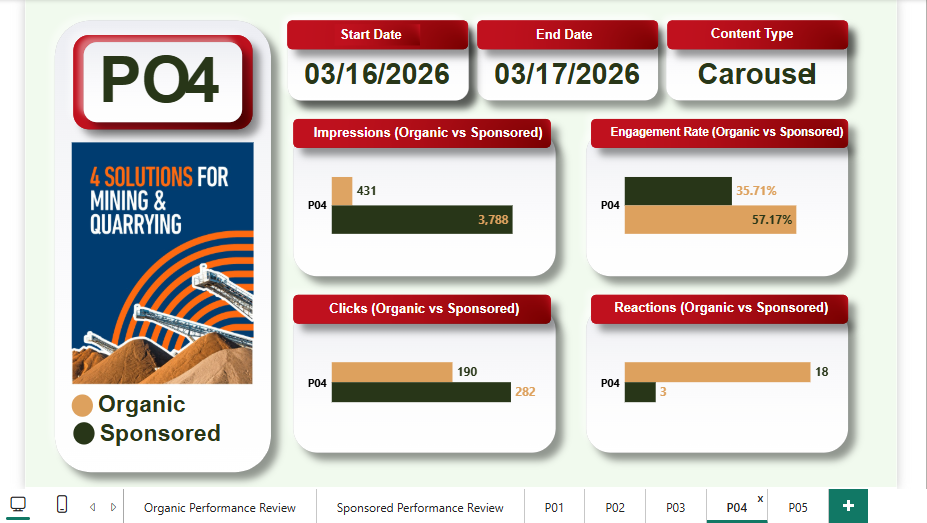

The dashboard page shown, as its layout file describes it:
{"tool":"powerbi","page":{"name":"P04","canvas":[1600,900],"ordinal":5},"visuals":[{"type":"clusteredBarChart","fields":{"Category":["Data.Post ID"],"Y":["Sum(Data.Unique impressions (organic))","Sum(Data.Impressions (sponsored))"]},"box":[512.7,172,430.1,424.9],"z":0},{"type":"clusteredBarChart","fields":{"Category":["Data.Post ID"],"Y":["Sum(Data.Clicks (organic))","Sum(Data.Clicks (sponsored))"]},"box":[512.7,523,430.1,376.8],"z":1000},{"type":"clusteredBarChart","fields":{"Category":["Data.Post ID"],"Y":["Sum(Data.Engagement rate (sponsored))","Sum(Data.Engagement rate (organic))"]},"box":[1051.2,172,430.1,424.9],"z":2000},{"type":"clusteredBarChart","fields":{"Category":["Data.Post ID"],"Y":["Sum(Data.Reactions (organic))","Sum(Data.Reactions (sponsored))"]},"box":[1051.2,523,430.1,376.8],"z":3000}]}

Visuals, with their boxes on the page's 1600x900 design canvas (x1, y1, x2, y2). These are canvas units, not pixel positions in the 927x523 screenshot, which may show the page scaled, cropped or inside an application window:
clusteredBarChart - Data.Post ID x Sum(Data.Unique impressions (organic)): locate(513, 172, 943, 597)
clusteredBarChart - Data.Post ID x Sum(Data.Clicks (organic)): locate(513, 523, 943, 900)
clusteredBarChart - Data.Post ID x Sum(Data.Engagement rate (sponsored)): locate(1051, 172, 1481, 597)
clusteredBarChart - Data.Post ID x Sum(Data.Reactions (organic)): locate(1051, 523, 1481, 900)
